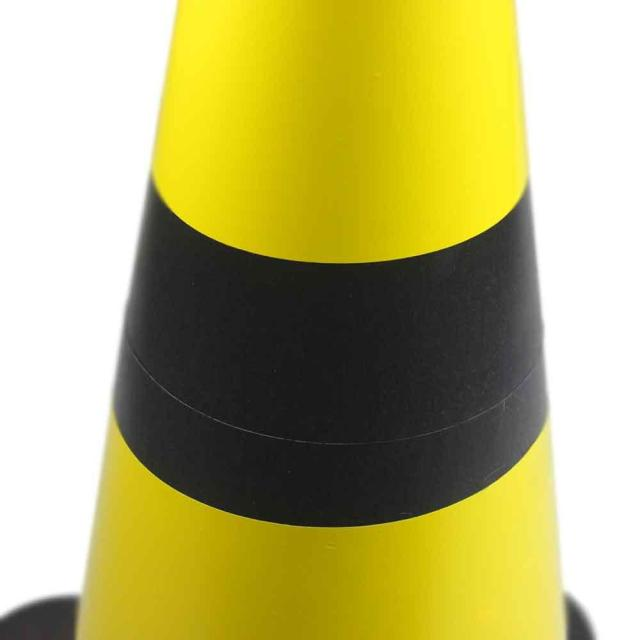cone: (57, 0, 583, 636)
